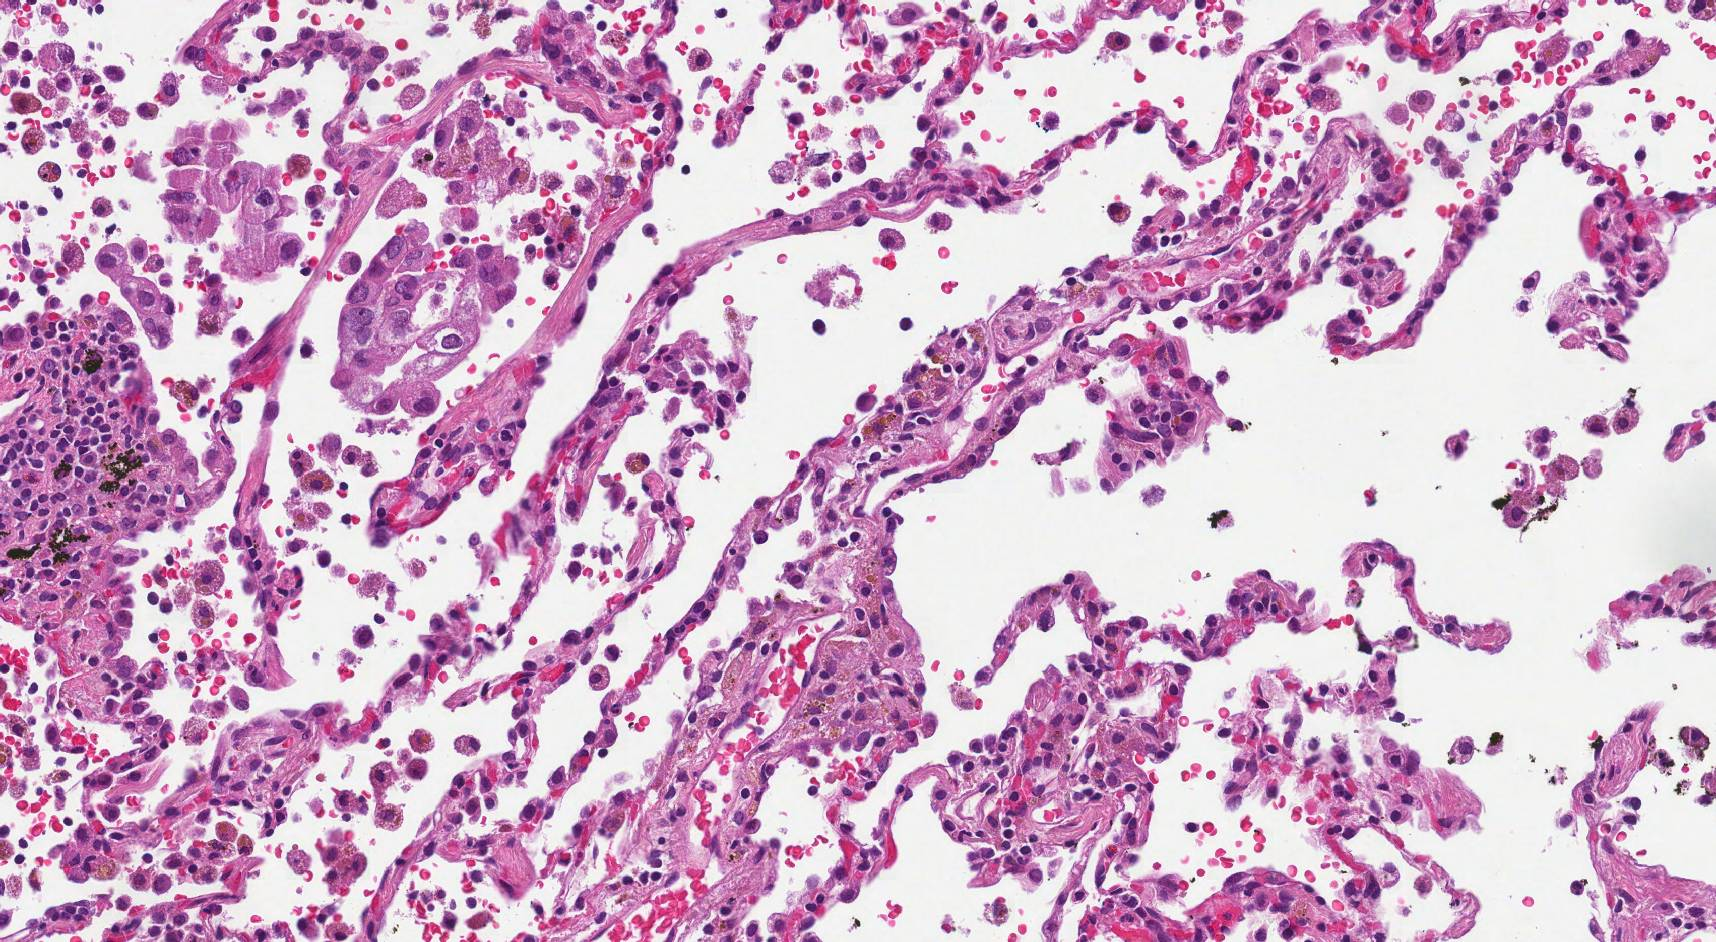stas: (332, 229, 522, 416), (161, 126, 305, 276), (97, 244, 173, 349)
